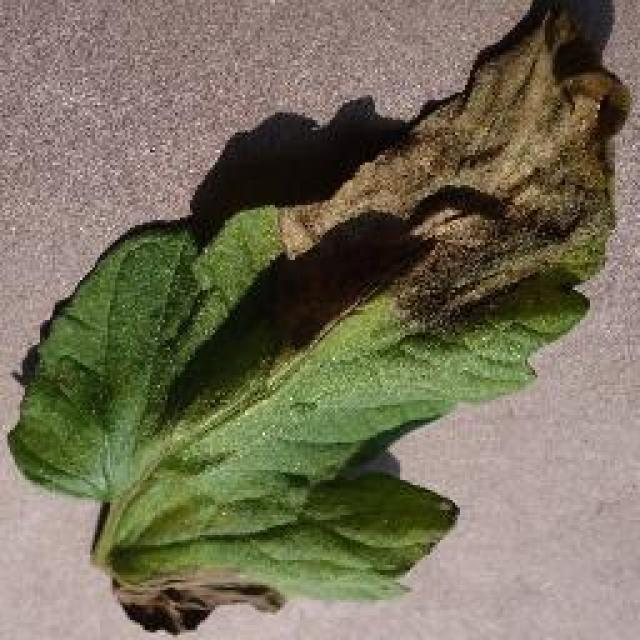Tomato late blight leaf: (21, 0, 626, 638)
